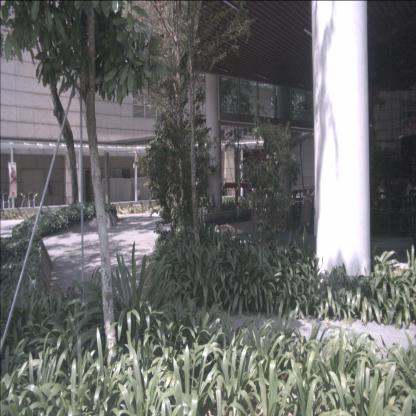human-pedestrian-adult: (396, 175, 414, 232), (375, 176, 391, 228)
